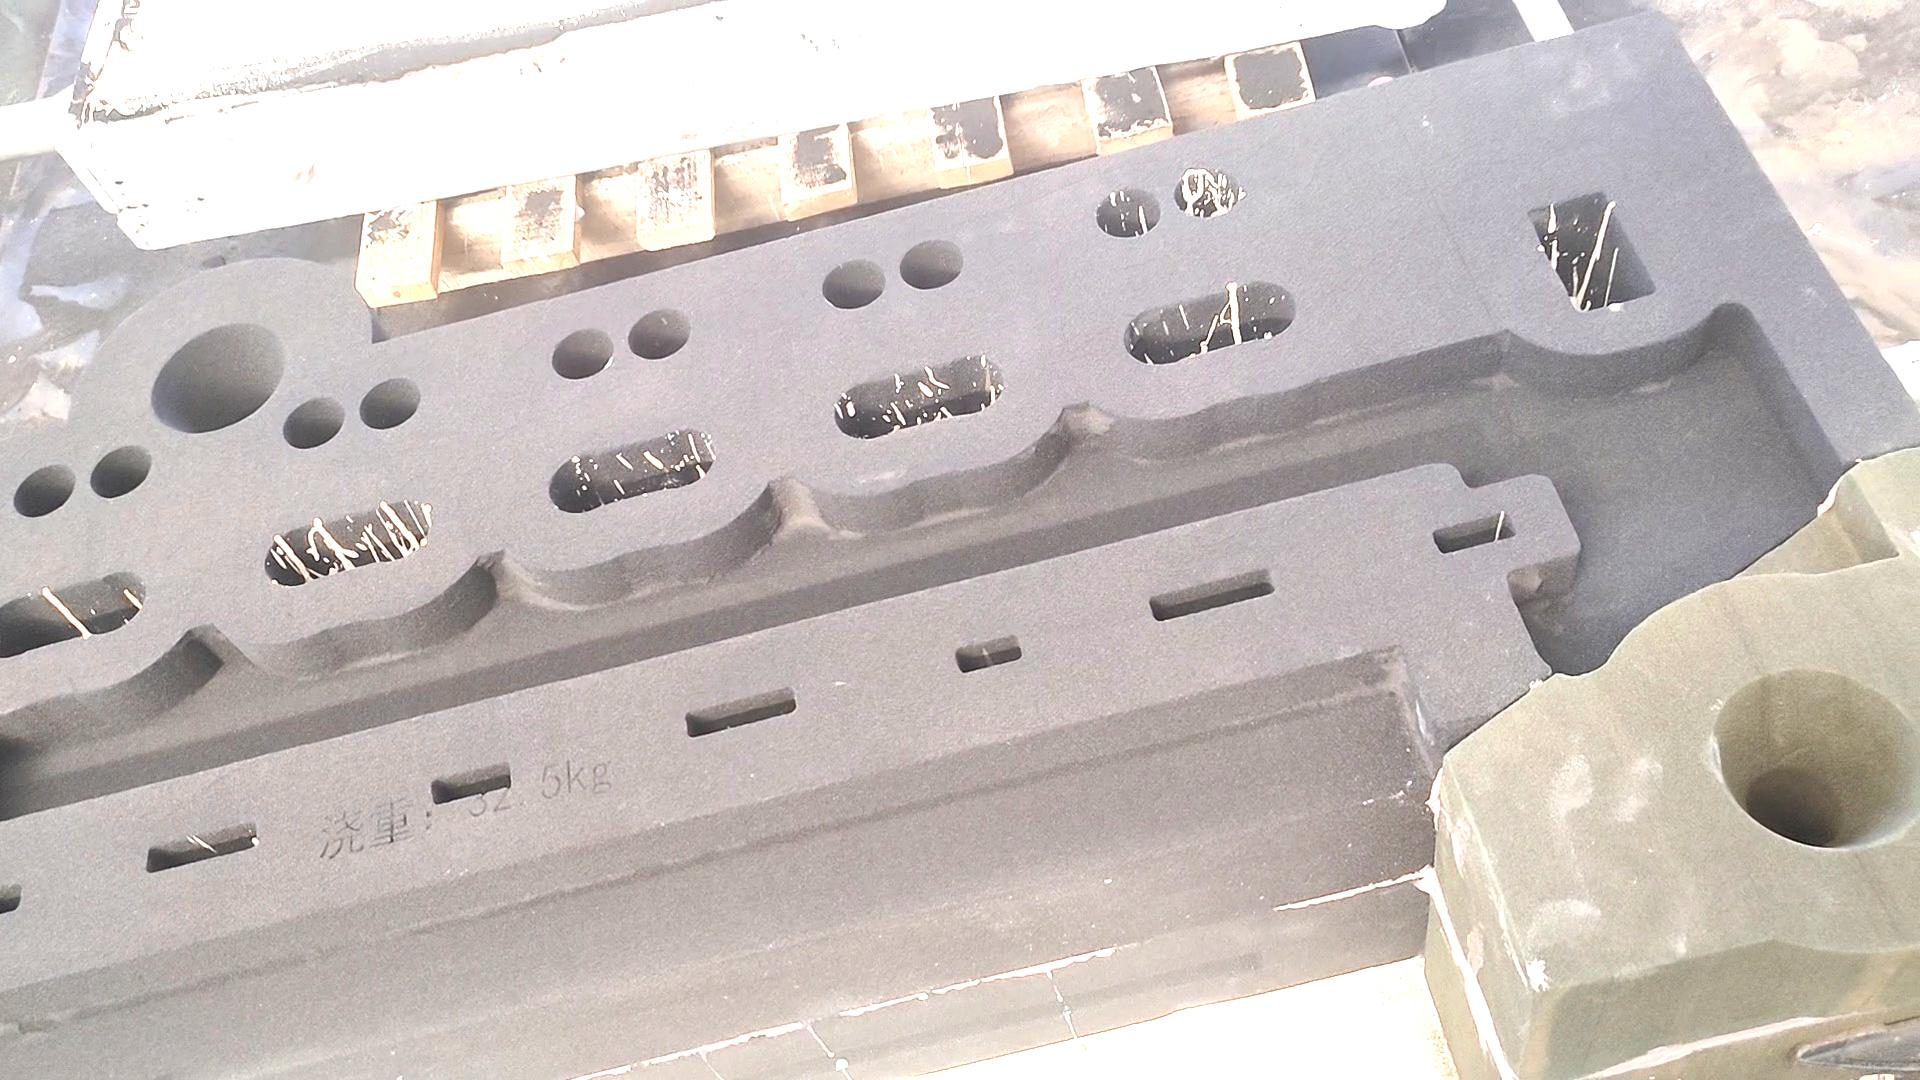pouring hole: (1713, 667, 1920, 849), (150, 320, 286, 434)
